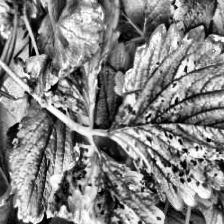Angular Leafspot: (103, 20, 224, 210), (13, 0, 122, 128), (46, 137, 174, 224), (10, 98, 91, 224)
